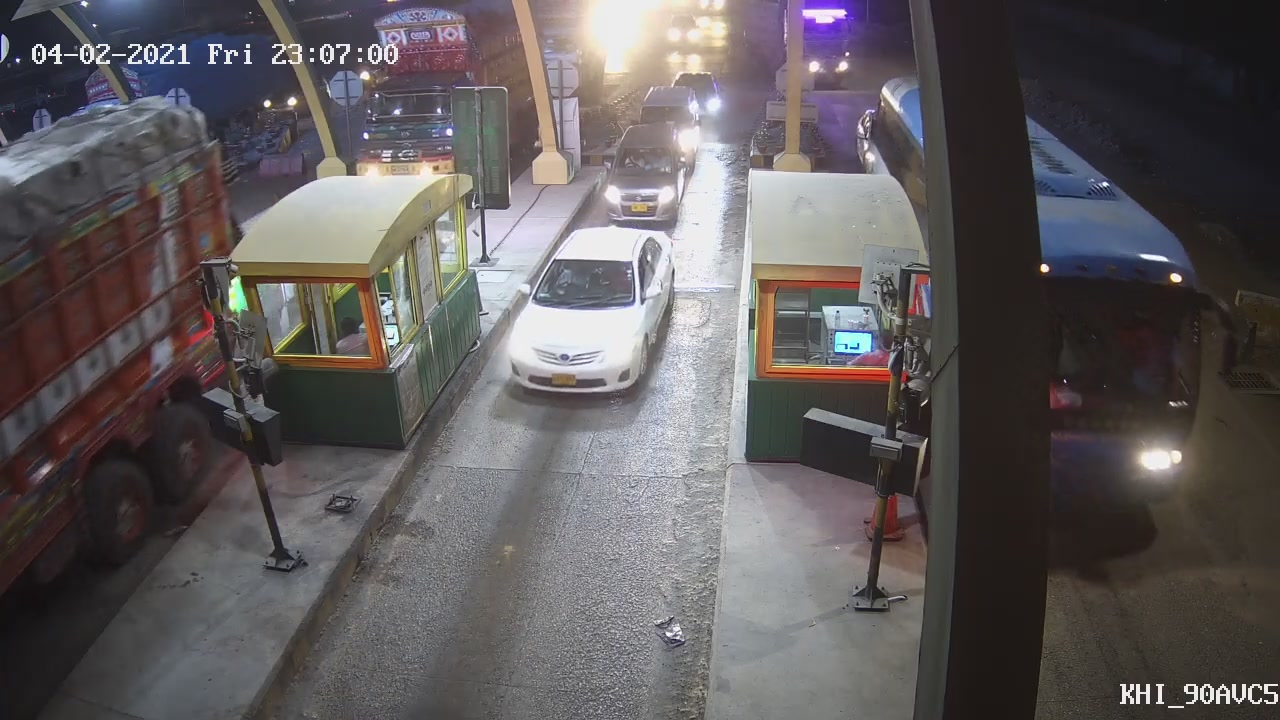F1: (501, 224, 680, 401), (598, 122, 696, 223)
